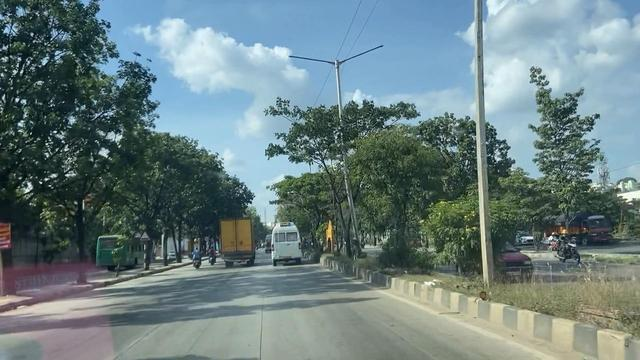HMV: (221, 218, 253, 263), (275, 217, 298, 264)
